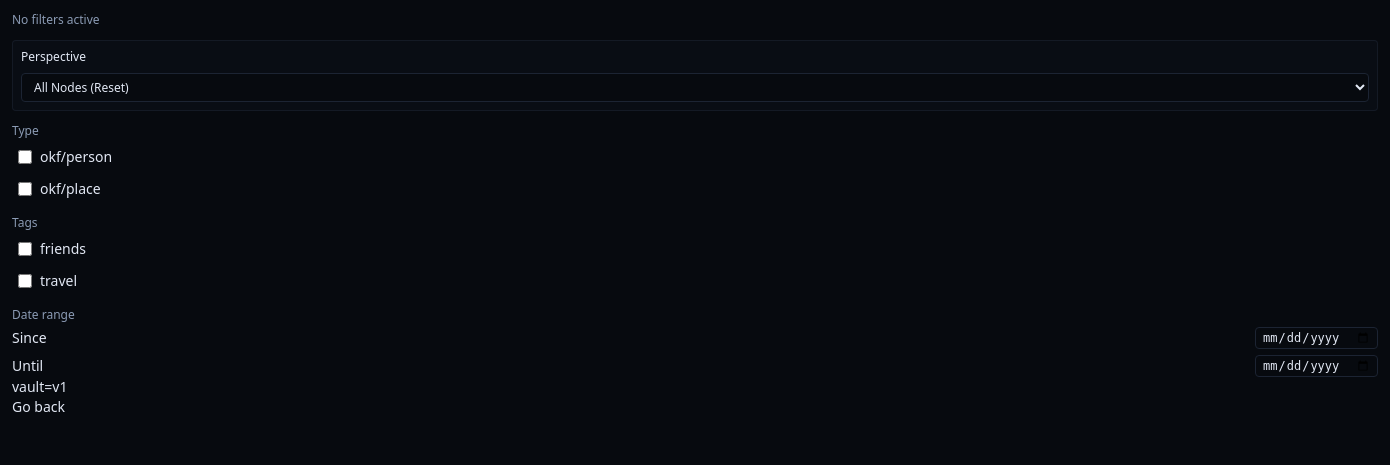
GraphFilters › offers a read-only member neither save nor delete, not even for their own perspective
This screenshot has width=1390, height=465.
Select "My Old View" in the dropdown named "Graph perspective". click: (695, 88)
box: [21,73,1369,102]
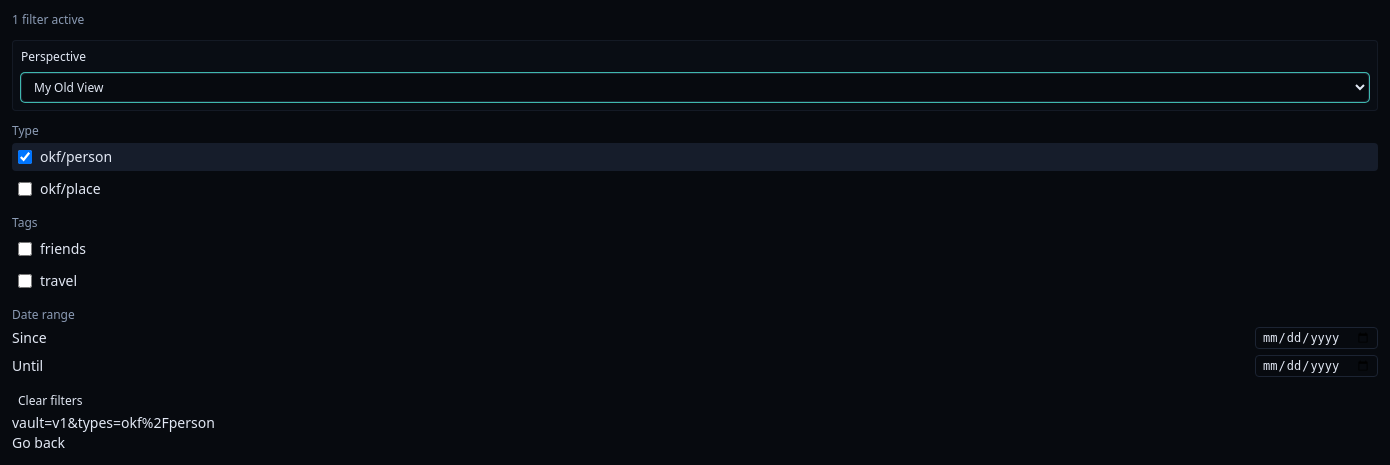
Now the text with test id "params" shows "types=okf%2Fperson", box [12,413,215,432]
